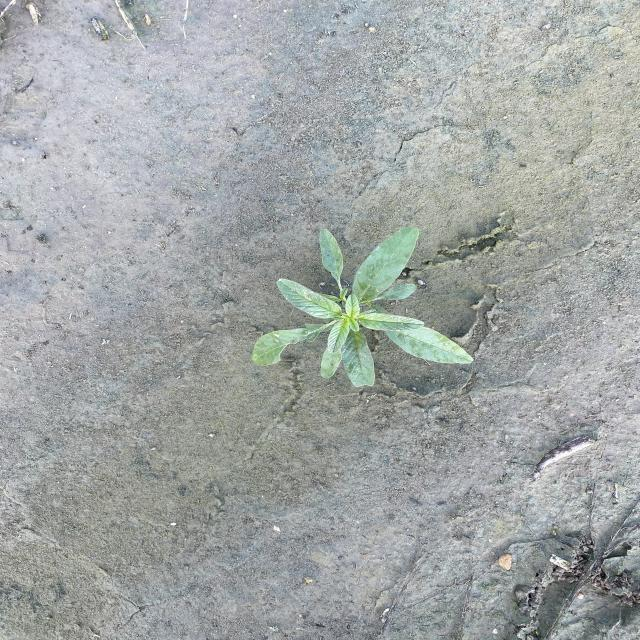Waterhemp: (250, 224, 477, 390)
